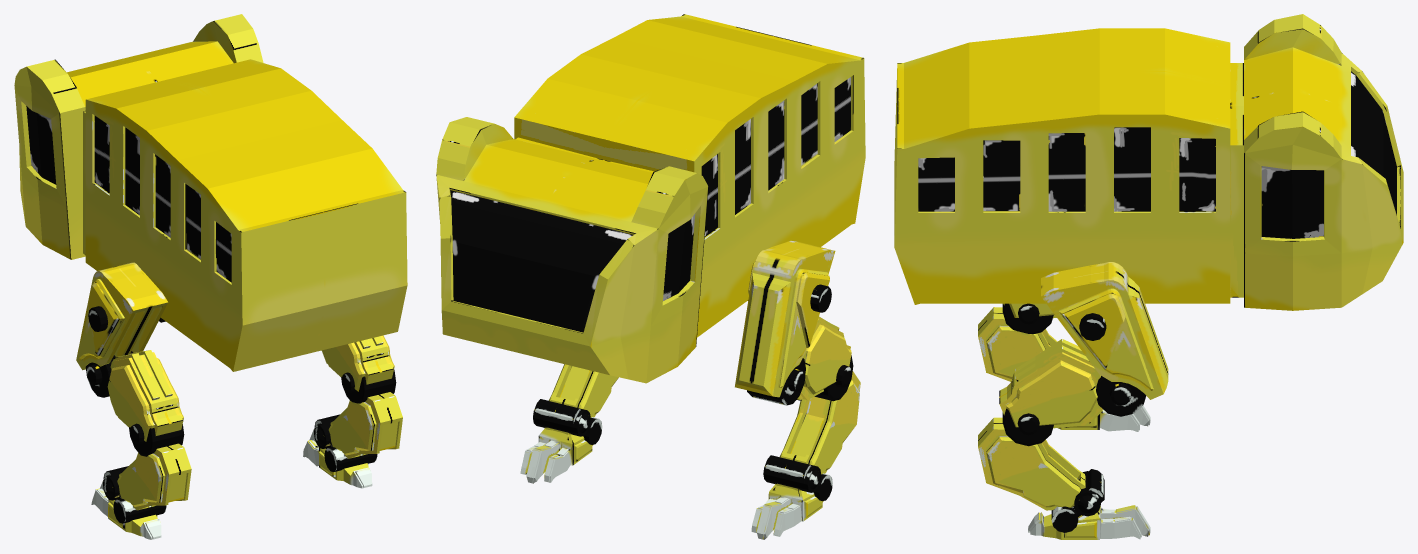
Rendered from WalkingBus.fbx.
3 renders of one model, left to right at view 1: azimuth 30°, elevation 25°; view 2: azimuth 150°, elevation 25°; view 3: azimuth 270°, elevation 25°, orthographic. The views are drawn at different scales.
Visible parts, largest first — view 1: Body, LegUnder, LegMiddle, Leg, Foot, Cylinder.002, Cylinder.004, Cylinder.003, Cylinder.001; view 2: Body, Leg, LegUnder, Foot, Cylinder.003, LegMiddle, Cylinder.001, Cylinder.004, Cylinder.002; view 3: Body, Leg, LegUnder, LegMiddle, Foot, Cylinder.002, Cylinder.001, Cylinder.003, Cylinder.004, Cylinder.
Part boxes in pixels (<box>): Body: <box>14,14,407,371</box>; LegUnder: <box>117,392,402,510</box>; LegMiddle: <box>107,335,394,441</box>; Leg: <box>76,262,168,370</box>; Foot: <box>91,429,372,539</box>; Cylinder.002: <box>129,369,396,456</box>; Cylinder.004: <box>113,443,377,523</box>; Cylinder.003: <box>103,414,339,500</box>; Cylinder.001: <box>85,351,132,397</box>; Body: <box>436,14,865,383</box>; Leg: <box>735,240,835,397</box>; LegUnder: <box>548,364,860,474</box>; Foot: <box>520,427,823,539</box>; Cylinder.003: <box>533,399,821,492</box>; LegMiddle: <box>796,316,851,400</box>; Cylinder.001: <box>747,358,805,405</box>; Cylinder.004: <box>583,417,832,501</box>; Cylinder.002: <box>814,355,853,401</box>; Body: <box>894,14,1403,310</box>; Leg: <box>1041,262,1168,399</box>; LegUnder: <box>978,307,1085,510</box>; LegMiddle: <box>999,303,1102,428</box>; Foot: <box>1028,405,1150,539</box>; Cylinder.002: <box>1002,303,1053,446</box>; Cylinder.001: <box>1096,376,1146,416</box>; Cylinder.003: <box>1074,469,1104,516</box>; Cylinder.004: <box>1051,506,1082,532</box>; Cylinder: <box>1079,313,1106,340</box>.
Size of the model in its own units: 3026 by 4012 by 4516.
Materials: 1 (1 with a texture image).
